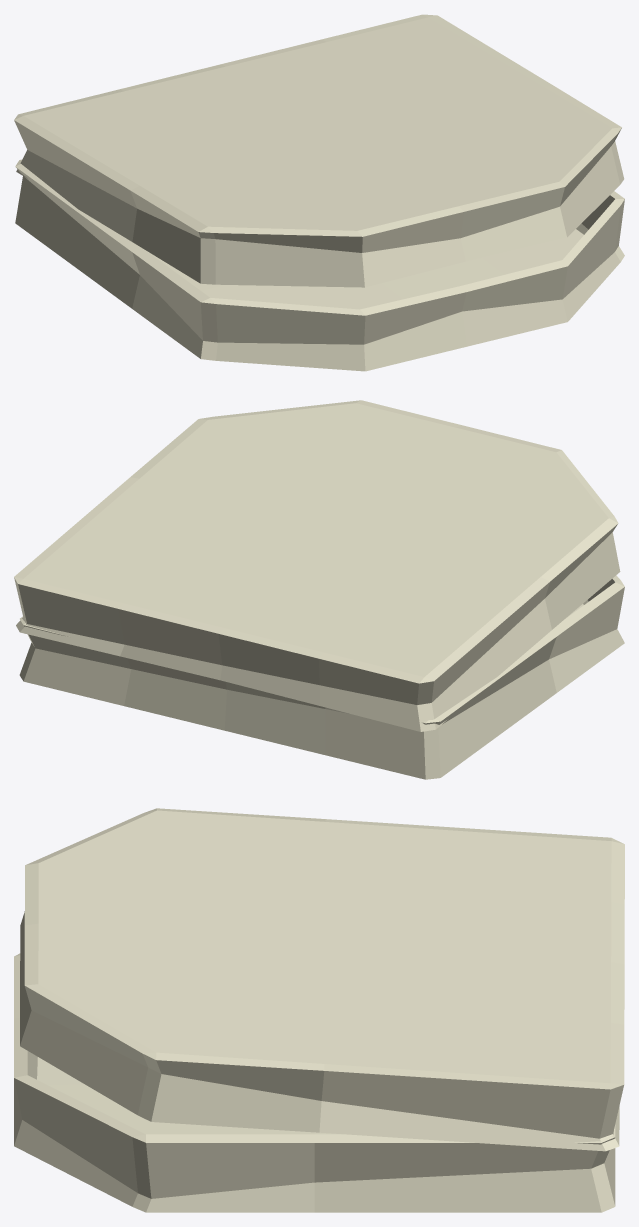
The model's file is PizzaBox.fbx.
The picture shows the model from 3 angles, top to bottom: view 1: azimuth 30°, elevation 25°; view 2: azimuth 150°, elevation 25°; view 3: azimuth 270°, elevation 25°; orthographic projection. The views are drawn at different scales.
Visible parts, largest first — view 1: PizzaBox; view 2: PizzaBox; view 3: PizzaBox.
Part boxes in pixels (x1,y1,x2,y2): PizzaBox: (14,14,624,371); PizzaBox: (14,400,624,779); PizzaBox: (14,808,624,1212).
Bounding box in the file's own units: 197 × 59.58 × 199.
